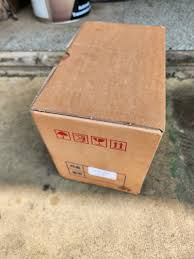undamaged: (30, 19, 168, 197)
